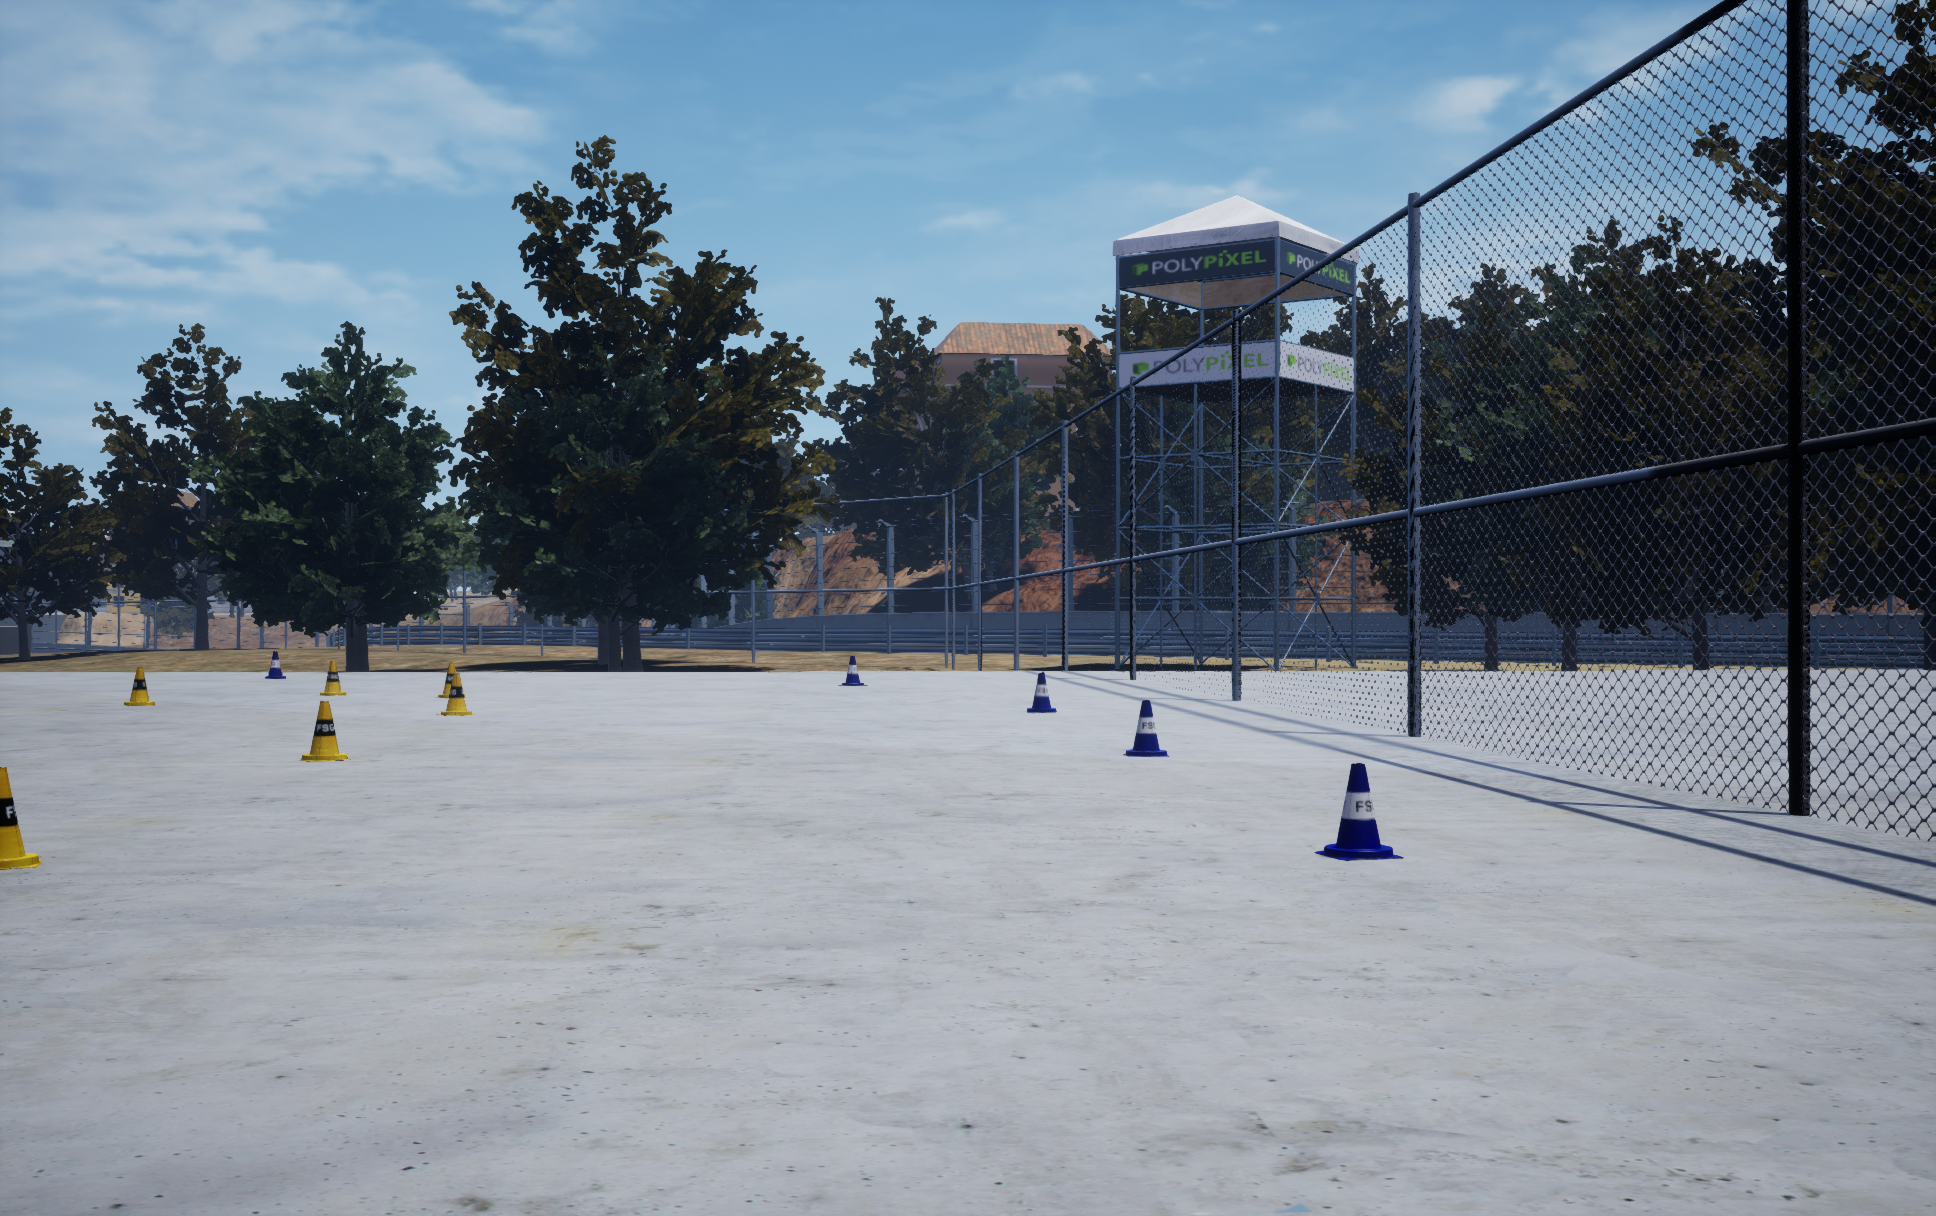blue: (0, 766, 41, 869), (300, 700, 350, 761), (436, 672, 473, 714), (125, 667, 155, 705), (436, 663, 464, 698), (319, 661, 346, 695)
yellow: (1314, 764, 1404, 860), (1123, 700, 1168, 756), (1027, 672, 1056, 712), (838, 656, 867, 685), (265, 651, 284, 678)
